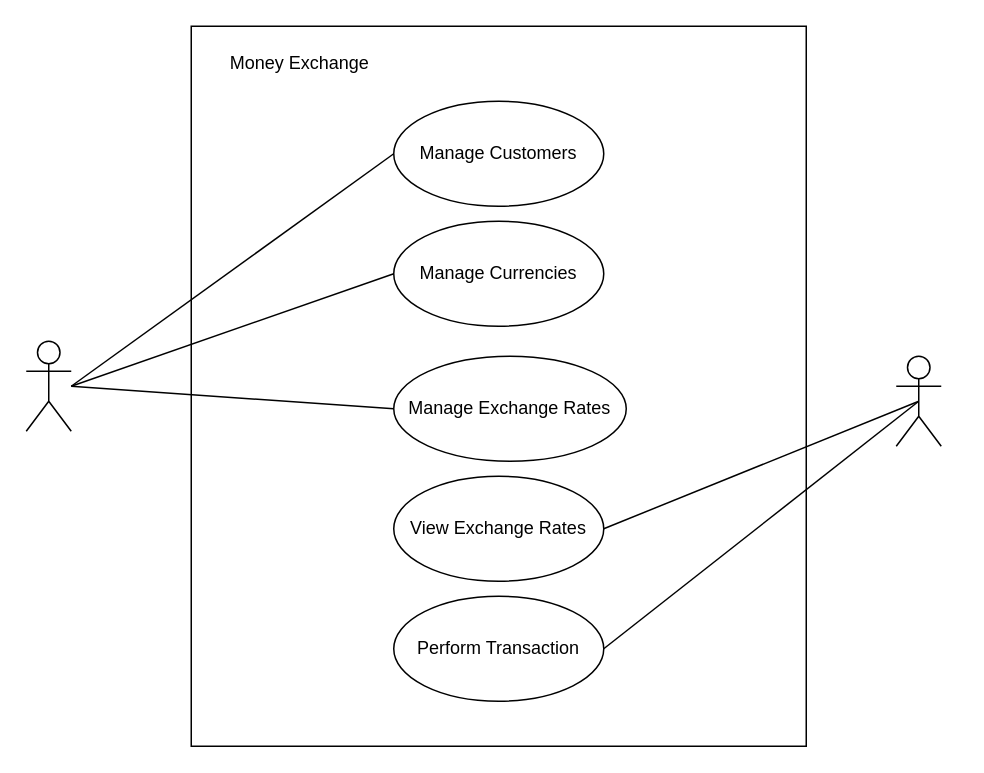
This 984x773 diagram has some shape labels left out. The centre of each missing label's shape, as x and y in pixels:
"Customer" goes at (918,400).
"User" goes at (48,385).
